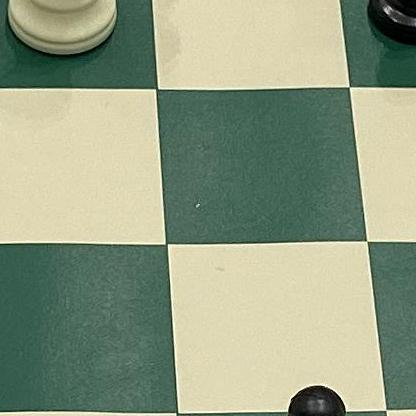black-pawn: (222, 368, 391, 416)
white-rook: (0, 0, 138, 69)
